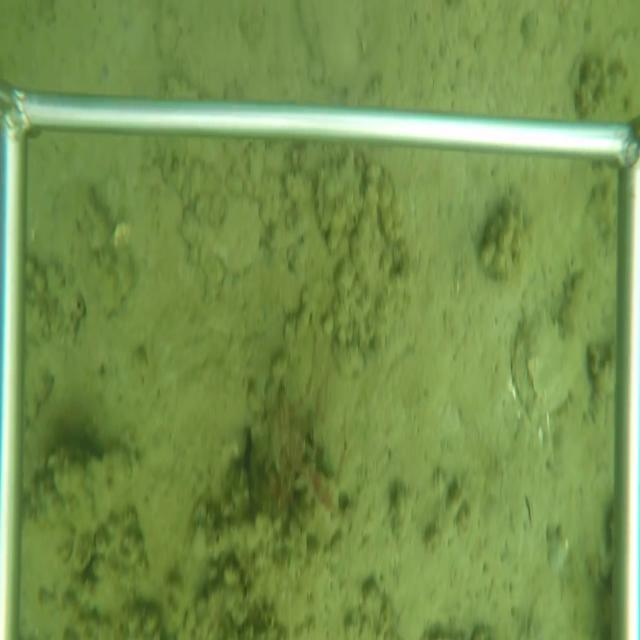Oyster-Indeterminate: (510, 308, 587, 419)
